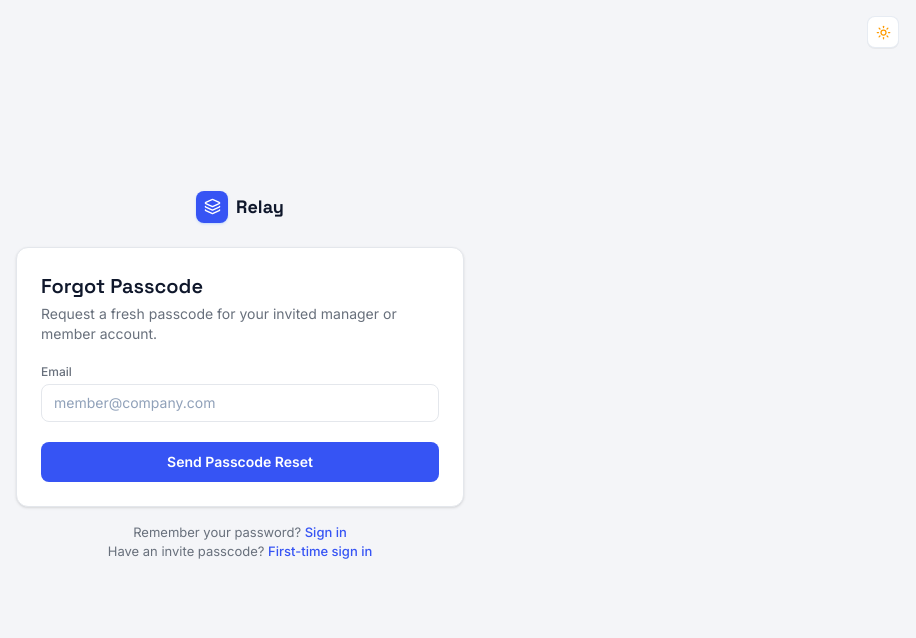
Test: ForgotPasscode Component › renders form and sends reset request
expect the heading "Forgot Passcode" is shown: met, box [41,272,203,298]
Type "bob@acme.test" into the field with placeholder "member@company.com" at (240, 402), box [41,384,439,422]
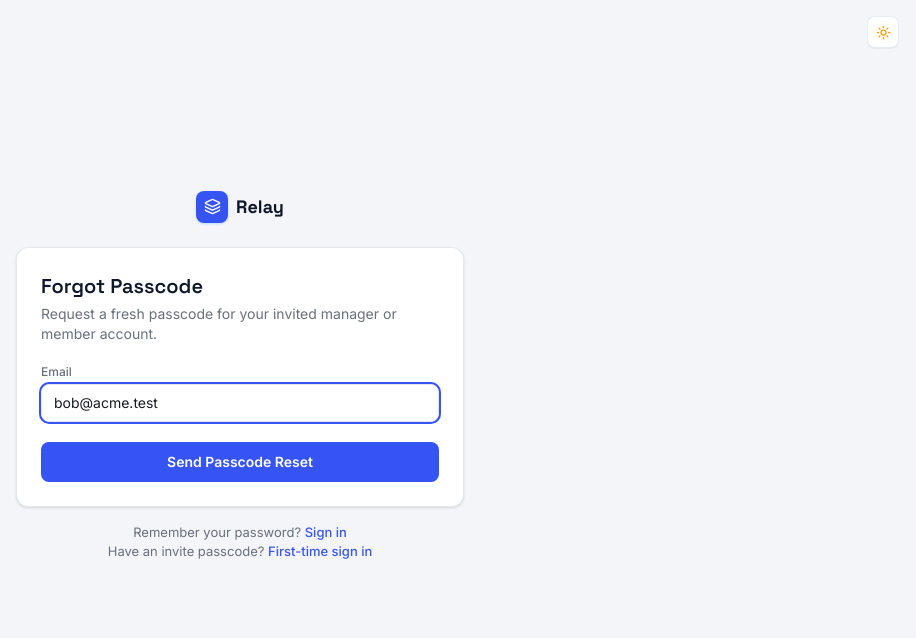
Click the button "Send Passcode Reset" at (240, 462), box [41,442,439,482]
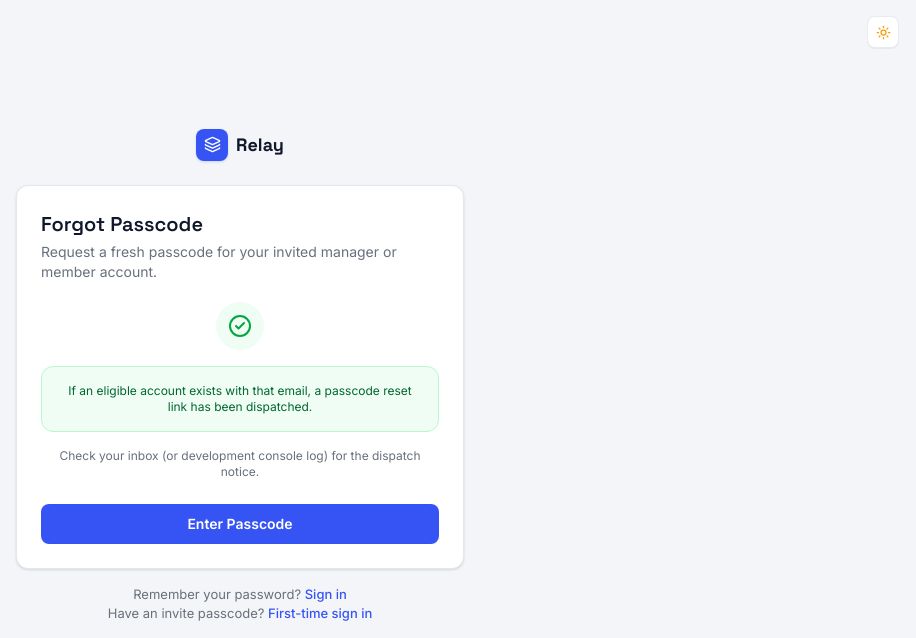
expect the text "If an eligible account exists with that email, a passcode reset link has been dispatched." is shown: met, box [68,382,412,414]
